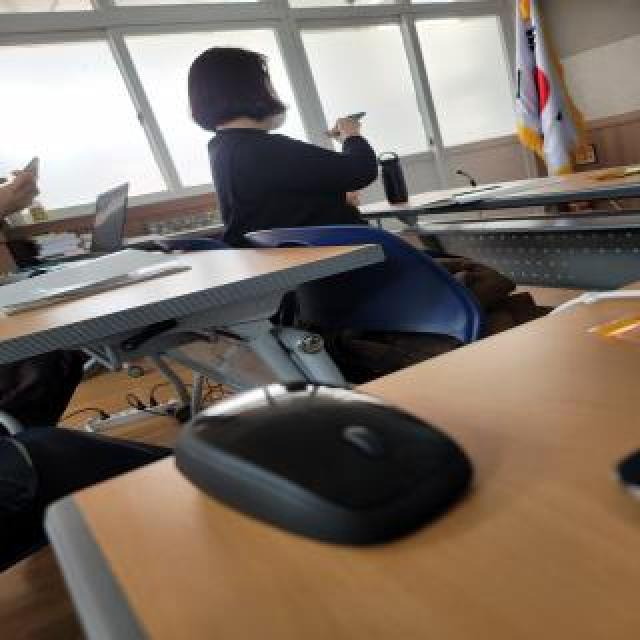laptop_computer: (62, 171, 148, 288)
mouse: (176, 375, 475, 561)
